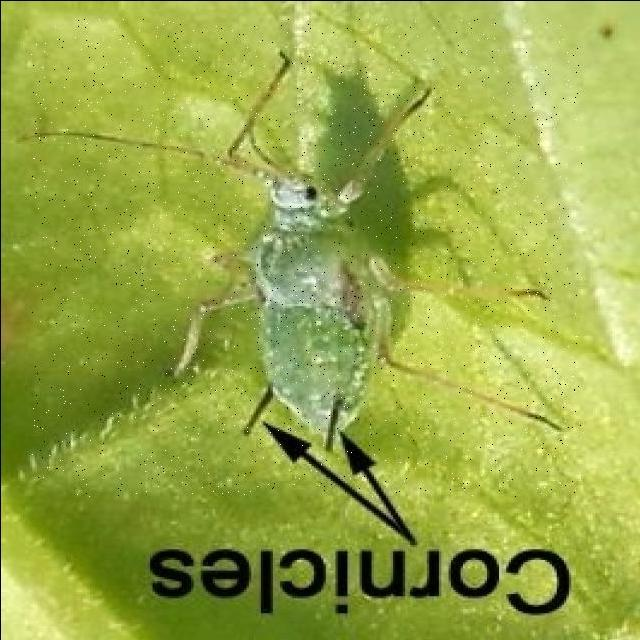aphid: (29, 18, 581, 496)
